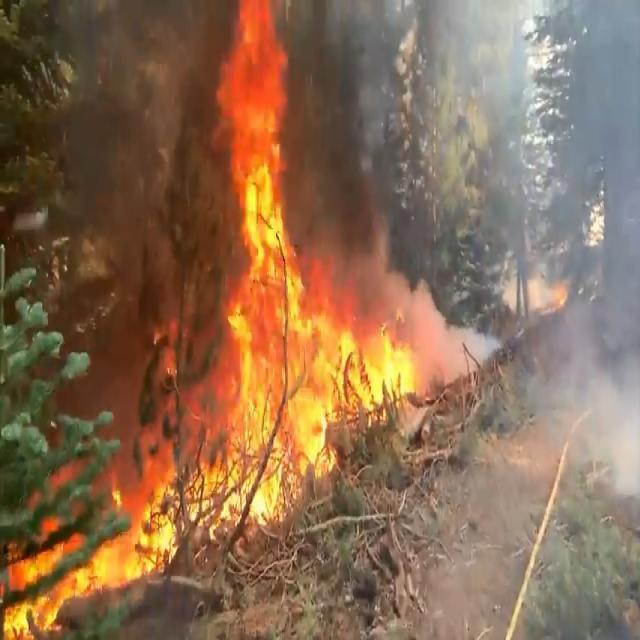Fire: (0, 1, 414, 640)
